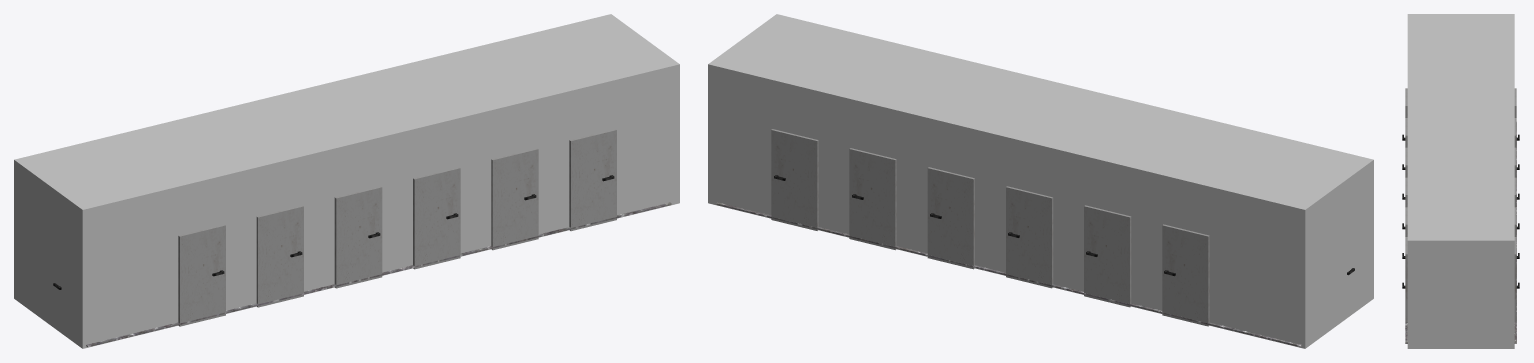
The model's file is couloir.fbx.
3 renders of one model, left to right at view 1: azimuth 30°, elevation 25°; view 2: azimuth 150°, elevation 25°; view 3: azimuth 270°, elevation 25°, orthographic. The views are drawn at different scales.
Visible parts, largest first — view 1: Cube, Porte.009, Porte.005, Porte.011, Porte.007, Porte.013, Porte.015, Plane; view 2: Cube, Porte.017, Porte.023, Porte.025, Porte.027, Porte.019, Porte.021, Plane; view 3: Cube, Plane, Porte.015, Porte.027.
Part boxes in pixels (x1,y1,x2,y2): Cube: [14, 14, 679, 348]; Porte.009: [334, 186, 382, 288]; Porte.005: [178, 224, 225, 326]; Porte.011: [413, 167, 460, 269]; Porte.007: [256, 205, 303, 307]; Porte.013: [491, 148, 538, 250]; Porte.015: [569, 129, 616, 231]; Plane: [86, 202, 671, 347]; Cube: [708, 14, 1373, 348]; Porte.017: [1162, 224, 1209, 326]; Porte.023: [927, 167, 974, 269]; Porte.025: [849, 148, 896, 250]; Porte.027: [771, 129, 818, 230]; Porte.019: [1084, 205, 1131, 307]; Porte.021: [1006, 186, 1053, 288]; Plane: [716, 202, 1301, 346]; Cube: [1407, 14, 1514, 348]; Plane: [1405, 121, 1516, 343]; Porte.015: [1405, 237, 1407, 321]; Porte.027: [1514, 237, 1516, 321].
Bounding box in the file's own units: 902 × 200 × 196.
